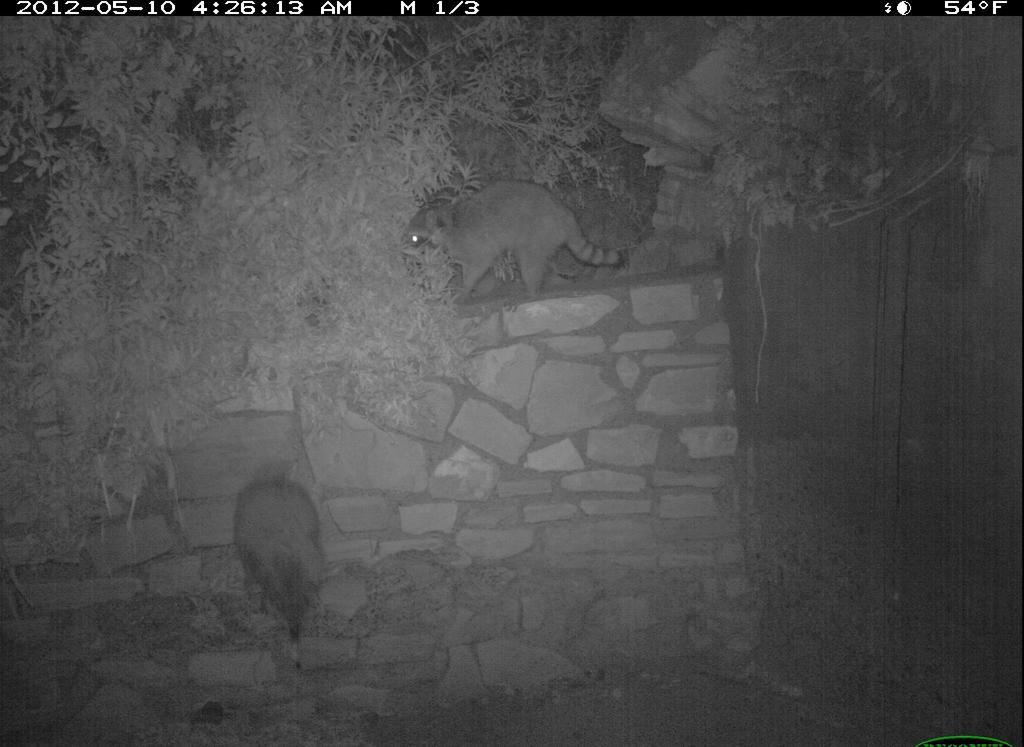raccoon: (397, 176, 634, 317), (232, 441, 341, 673)
